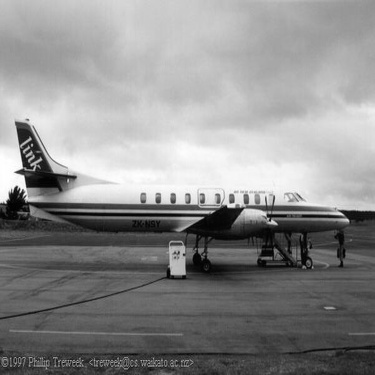airplane: (9, 106, 356, 285)
